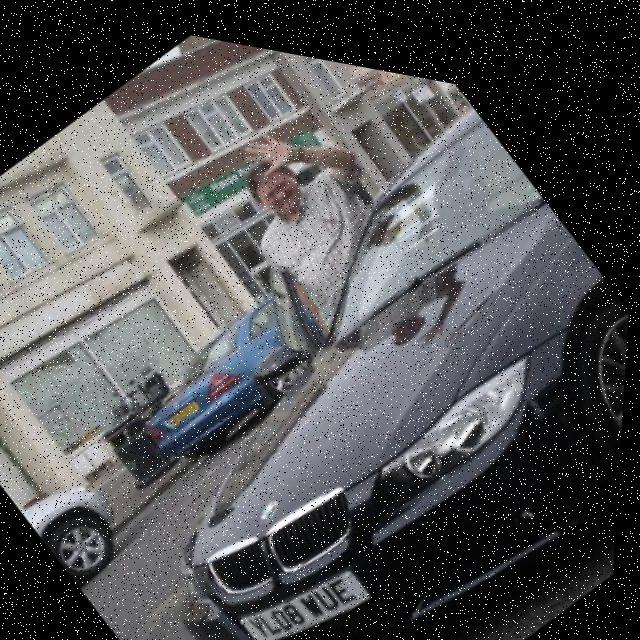license_plate: (244, 521, 381, 640), (170, 386, 208, 426)
